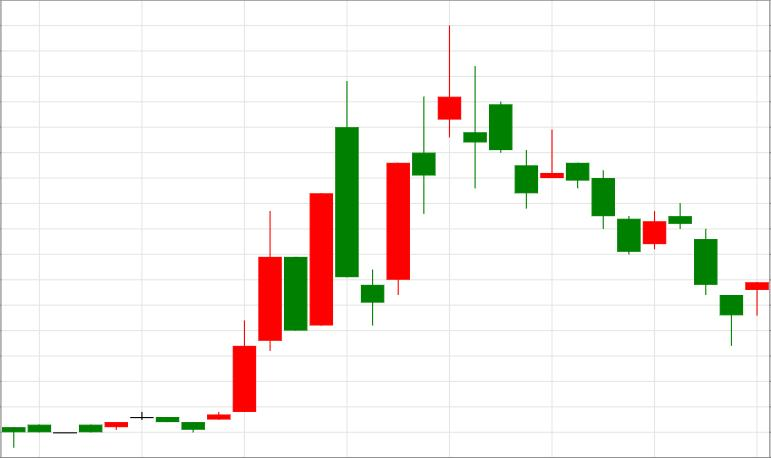shooting_star_fall: (206, 24, 461, 422)
